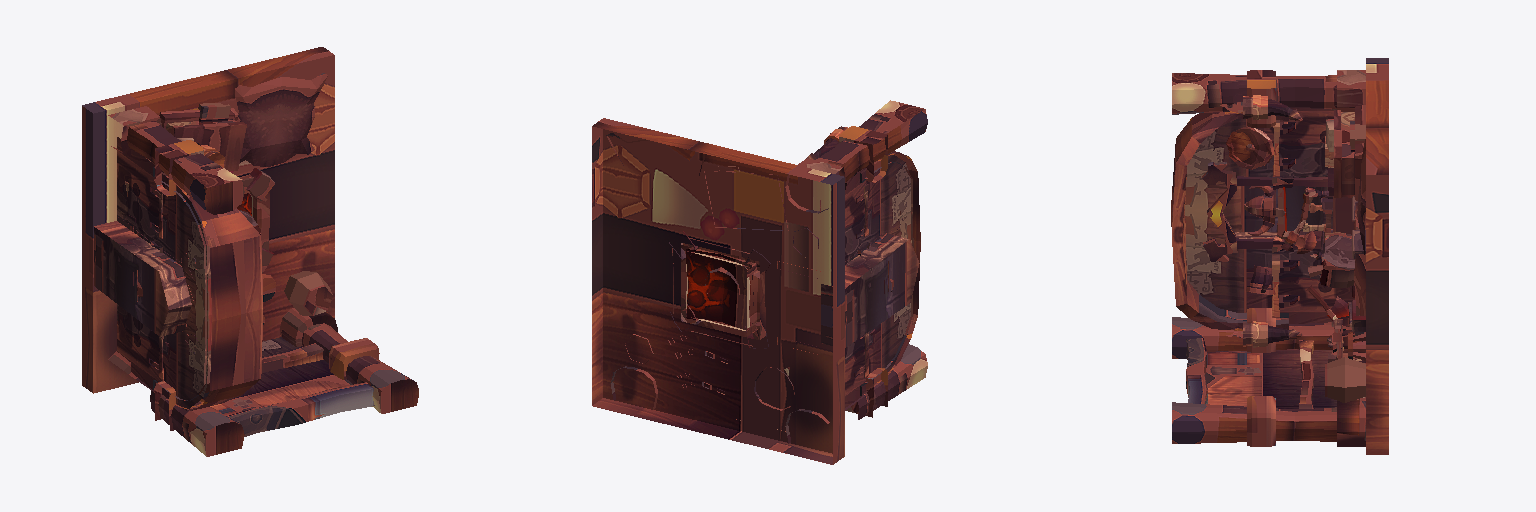
3 renders of one model, left to right at view 1: azimuth 30°, elevation 25°; view 2: azimuth 150°, elevation 25°; view 3: azimuth 270°, elevation 25°, orthographic.
Parts seen in each view (by area): view 1: viking_room; view 2: viking_room; view 3: viking_room.
Part boxes in pixels (x1,y1,x2,y2): viking_room: (82, 47, 418, 456); viking_room: (592, 100, 927, 464); viking_room: (1171, 58, 1388, 454).
Size of the model in its own units: 1.33 by 1.46 by 1.03.
1 materials, 1 textured.